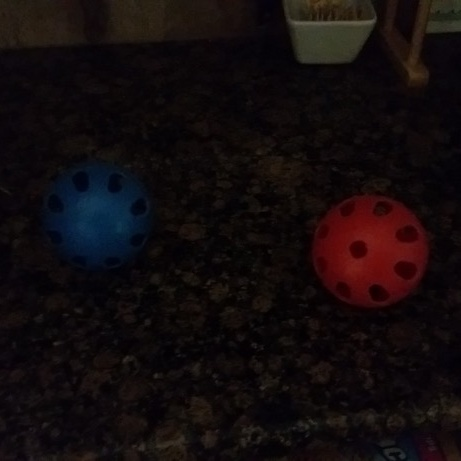ball: (306, 188, 431, 312), (34, 158, 161, 277)
